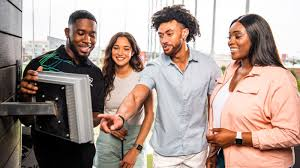person: (227, 14, 271, 61), (64, 9, 98, 60), (155, 12, 190, 56), (108, 32, 137, 69)
